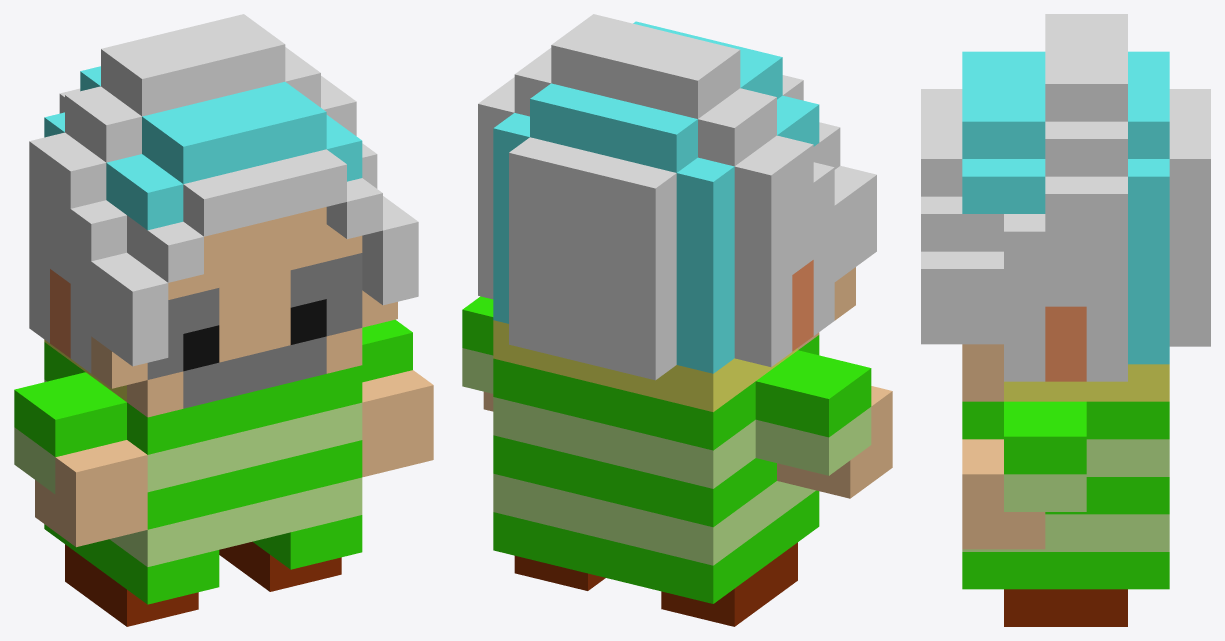
The model's file is allip.fbx.
The picture shows the model from 3 angles, left to right: view 1: azimuth 30°, elevation 25°; view 2: azimuth 150°, elevation 25°; view 3: azimuth 270°, elevation 25°; orthographic projection. The views are drawn at different scales.
Visible parts, largest first — view 1: 对象; view 2: 对象; view 3: 对象.
Boxes of the visible parts, x1,y1,x2,y2 form: 对象: (14, 14, 433, 626); 对象: (462, 14, 892, 626); 对象: (921, 14, 1210, 626).
Bounding box in the file's own units: 10 × 14 × 7.
Materials: 1 (1 with a texture image).
